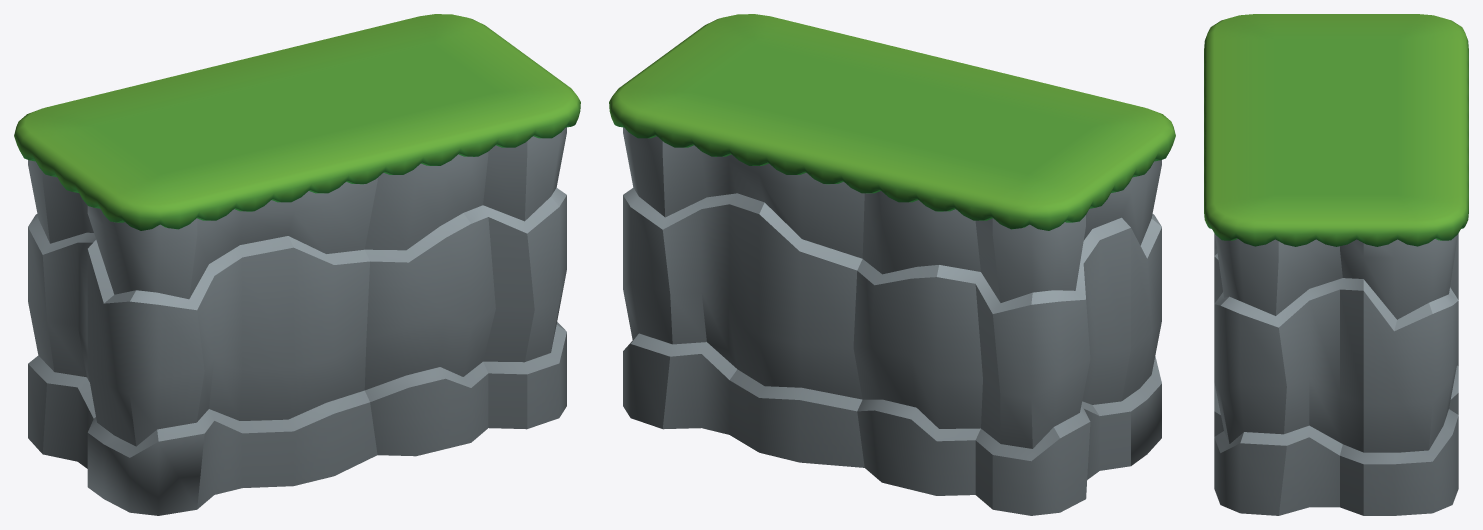
Rendered from Hill_12x6x8_Color1.gltf.
The picture shows the model from 3 angles, left to right: view 1: azimuth 30°, elevation 25°; view 2: azimuth 150°, elevation 25°; view 3: azimuth 270°, elevation 25°; orthographic projection. The views are drawn at different scales.
Visible parts, largest first — view 1: Hill_12x6x8_Color1; view 2: Hill_12x6x8_Color1; view 3: Hill_12x6x8_Color1.
Part boxes in pixels (x1,y1,x2,y2): Hill_12x6x8_Color1: (14, 14, 580, 515); Hill_12x6x8_Color1: (609, 14, 1175, 515); Hill_12x6x8_Color1: (1204, 14, 1468, 515).
Size of the model in its own units: 12.5 by 8 by 6.5.
1 material, 1 textured.
